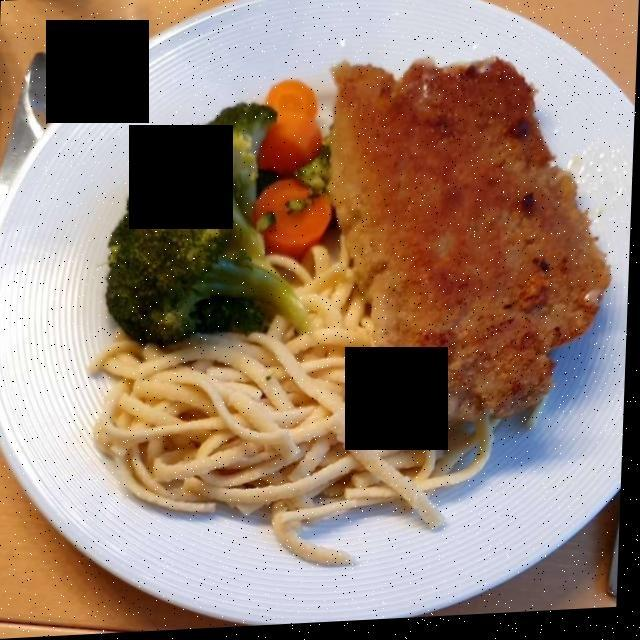broccoli: (109, 112, 295, 343)
carrot: (248, 79, 339, 249)
pasta: (88, 246, 501, 561)
pork-schnitzel-fried: (331, 69, 606, 424)
